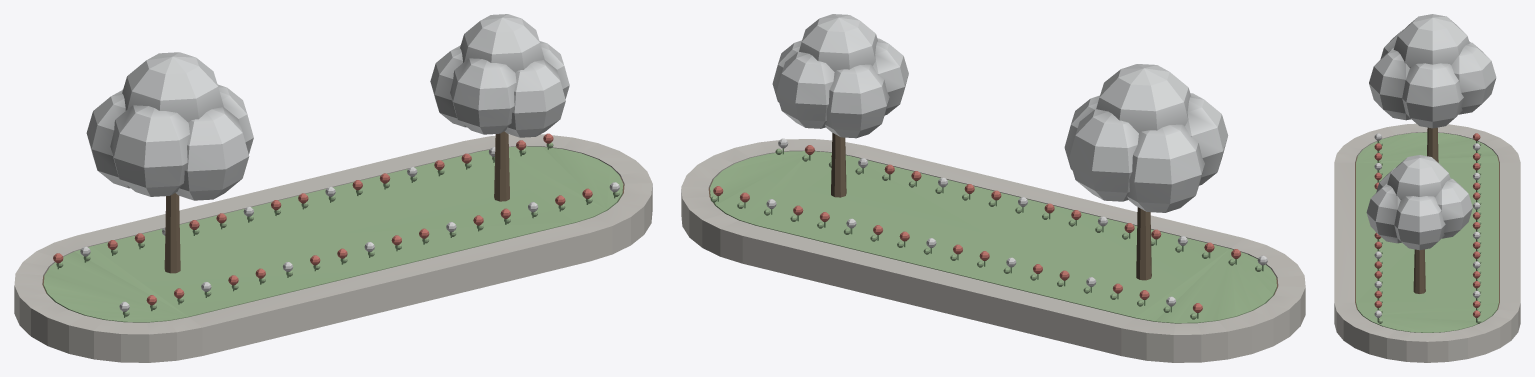
The model's file is plaza_garden_long_winter.glb.
3 views of the same model, side by side, from view 1: azimuth 30°, elevation 25°; view 2: azimuth 150°, elevation 25°; view 3: azimuth 270°, elevation 25° (orthographic). The views are drawn at different scales.
Bounding box in the file's own units: 10 × 3.82 × 3.6.
